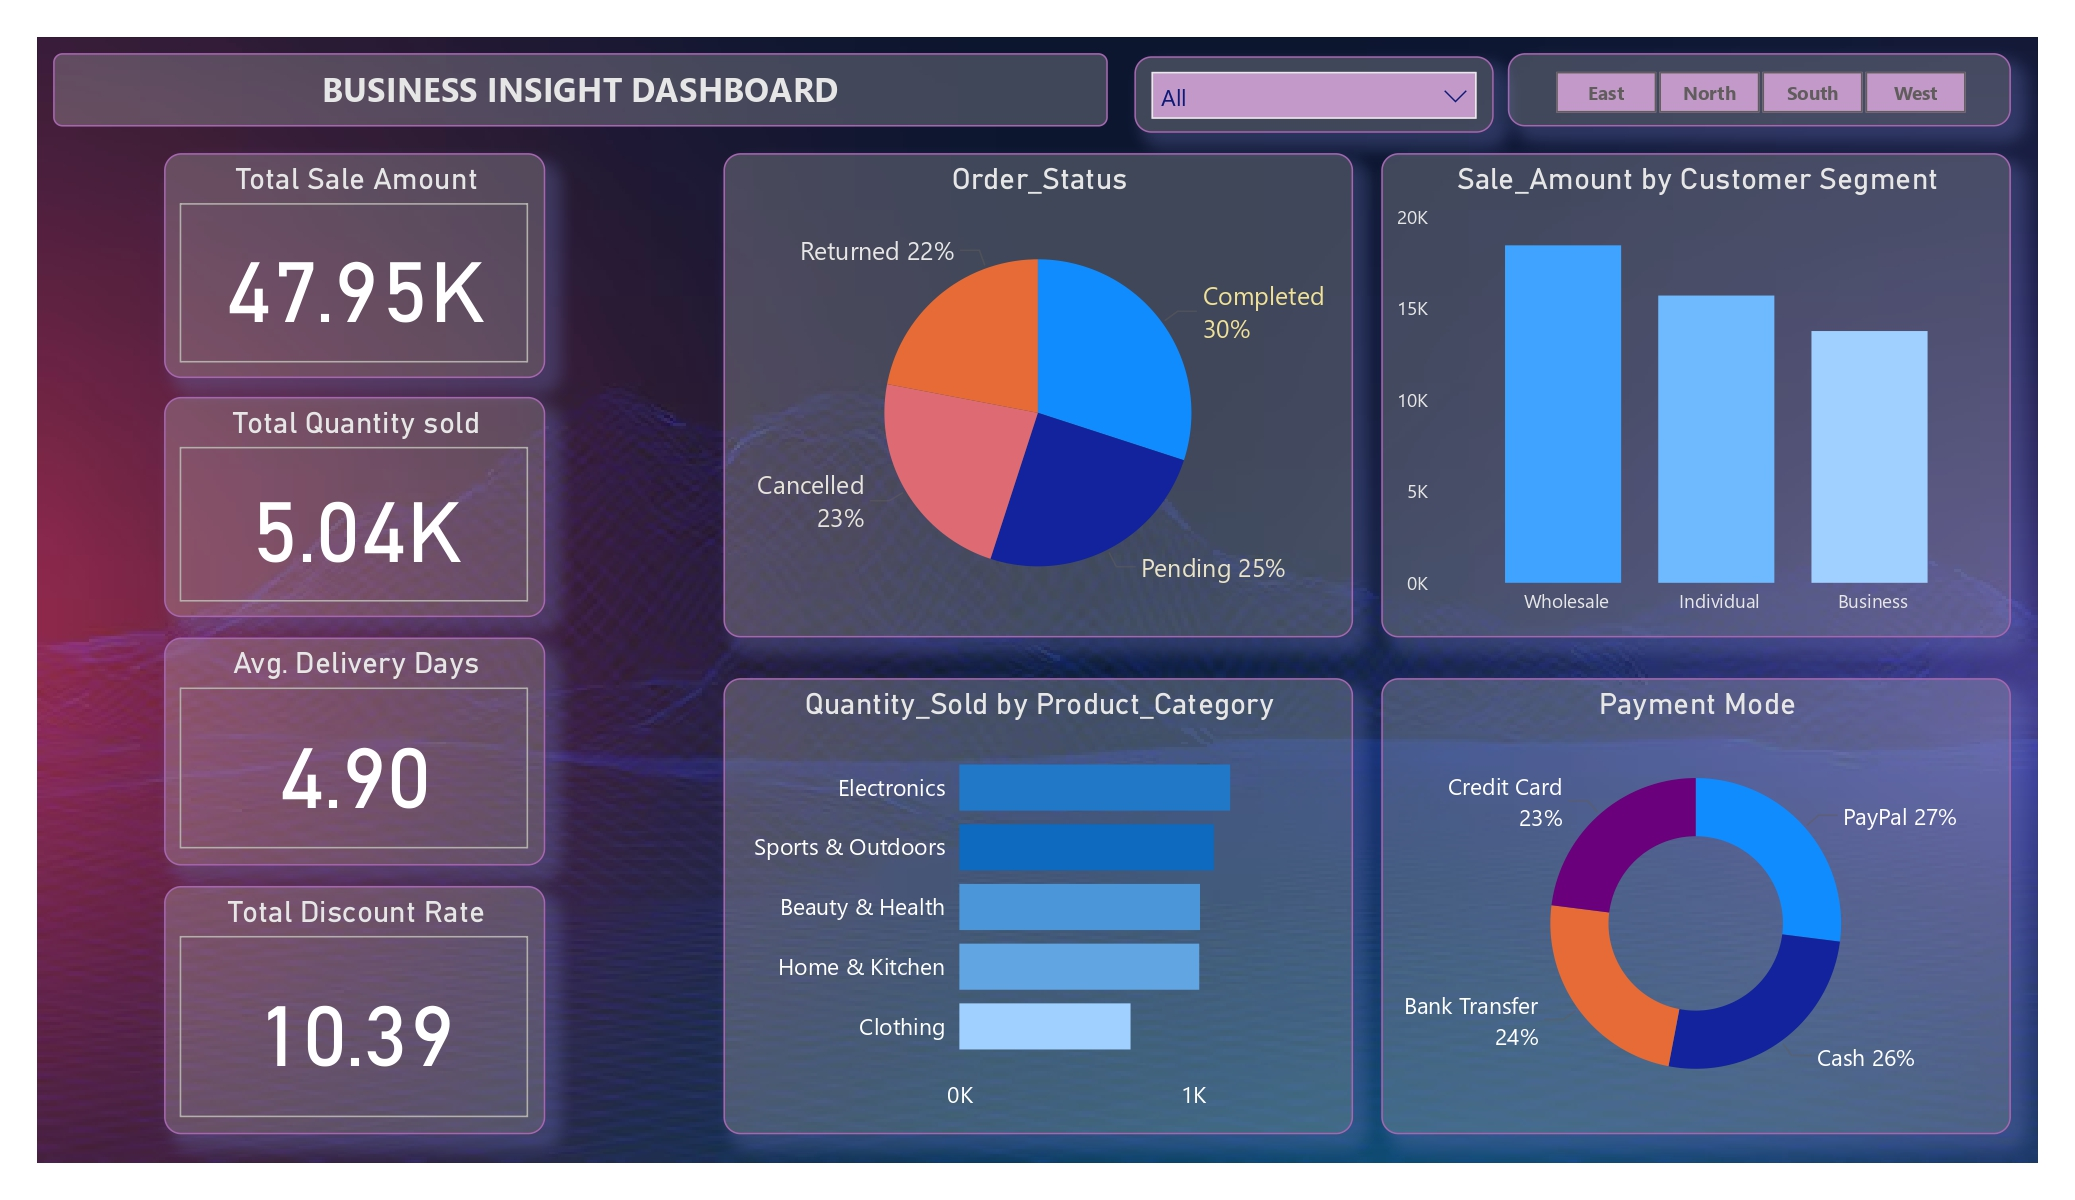

Layout of this report page (visuals, bound fields, positions):
{"tool":"powerbi","page":{"name":"Page 1","canvas":[1280,720],"ordinal":0},"visuals":[{"type":"textbox","box":[9.9,9.9,674.6,46.8],"z":0},{"type":"columnChart","title":"Sale_Amount by Customer Segment","fields":{"Category":["Data.Customer_Segment"],"Y":["Sum(Data.Sale_Amount)"]},"box":[860.3,73.7,402.5,310.4],"z":1000},{"type":"donutChart","title":"Payment Mode","fields":{"Y":["CountNonNull(Data.Payment_Method)"],"Category":["Data.Payment_Method"]},"box":[860.3,409.6,402.5,292],"z":2000},{"type":"barChart","title":" Quantity_Sold by Product_Category","fields":{"Category":["Data.Product_Category"],"Y":["Sum(Data.Quantity_Sold)"]},"box":[439.4,409.6,402.5,292],"z":3000},{"type":"pieChart","title":"Order_Status","fields":{"Y":["CountNonNull(Data.Order_Status)"],"Category":["Data.Order_Status"]},"box":[439.4,73.7,402.5,310.4],"z":4000},{"type":"slicer","fields":{"Values":["Data.Region"]},"box":[941.1,9.9,321.7,46.8],"z":5000},{"type":"slicer","fields":{"Values":["Data.City"]},"box":[702,12,230,49],"z":6000},{"type":"cardVisual","title":"Total Sale Amount","fields":{"Data":["Sum(Data.Sale_Amount)"]},"box":[80.8,73.7,243.8,144.6],"z":7000},{"type":"cardVisual","title":"Total Quantity sold","fields":{"Data":["Sum(Data.Quantity_Sold)"]},"box":[80.8,229.6,243.8,141.7],"z":8000},{"type":"cardVisual","title":"Avg. Delivery Days","fields":{"Data":["Avg(Data.Delivery_Days)"]},"box":[80.8,384.1,243.8,146],"z":9000},{"type":"cardVisual","title":"Total Discount Rate","fields":{"Data":["Sum(Data.Discount_Rate)"]},"box":[80.8,542.8,243.8,158.7],"z":10000}]}

Visuals, with their boxes in screenshot pixels (x1, y1, x2, y2):
textbox: bbox=[53, 53, 1107, 126]
"Sale_Amount by Customer Segment" columnChart: bbox=[1382, 153, 2011, 638]
"Payment Mode" donutChart: bbox=[1382, 678, 2011, 1134]
" Quantity_Sold by Product_Category" barChart: bbox=[724, 678, 1353, 1134]
"Order_Status" pieChart: bbox=[724, 153, 1353, 638]
slicer - Data.Region: bbox=[1508, 53, 2011, 126]
slicer - Data.City: bbox=[1134, 56, 1494, 133]
"Total Sale Amount" cardVisual: bbox=[164, 153, 545, 379]
"Total Quantity sold" cardVisual: bbox=[164, 396, 545, 618]
"Avg. Delivery Days" cardVisual: bbox=[164, 638, 545, 866]
"Total Discount Rate" cardVisual: bbox=[164, 886, 545, 1134]
